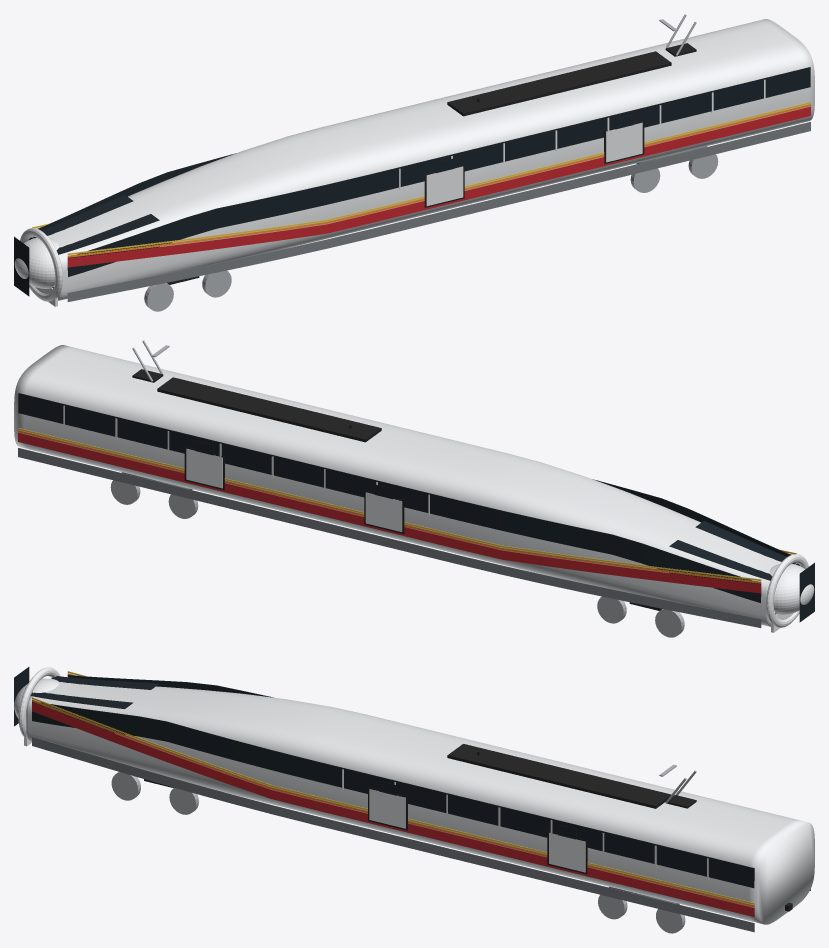
File: cr400af-bs-head-lod-v003.glb
3 renders of one model, top to bottom at view 1: azimuth 30°, elevation 25°; view 2: azimuth 150°, elevation 25°; view 3: azimuth 330°, elevation 25°, orthographic.
Parts seen in each view (by area): view 1: GEO-headcar-lod, GEO-nose_cap, GEO-door_-1_-0.6, GEO-door_-1_5.6, GEO-nose_ring, GEO-nose_windscreen; view 2: GEO-headcar-lod, GEO-nose_cap, GEO-door_1_-0.6, GEO-door_1_5.6, GEO-nose_ring, GEO-nose_windscreen; view 3: GEO-headcar-lod, GEO-door_-1_5.6, GEO-door_-1_-0.6, GEO-nose_ring.
Part boxes in pixels (left/top/right/bottom): GEO-headcar-lod: left=29, top=14, right=814, bottom=311; GEO-nose_cap: left=14, top=238, right=58, bottom=288; GEO-door_-1_-0.6: left=426, top=166, right=463, bottom=205; GEO-door_-1_5.6: left=606, top=122, right=642, bottom=162; GEO-nose_ring: left=20, top=228, right=62, bottom=301; GEO-nose_windscreen: left=14, top=236, right=29, bottom=296; GEO-headcar-lod: left=14, top=340, right=799, bottom=637; GEO-nose_cap: left=770, top=564, right=814, bottom=614; GEO-door_1_-0.6: left=365, top=492, right=402, bottom=531; GEO-door_1_5.6: left=186, top=448, right=222, bottom=488; GEO-nose_ring: left=766, top=554, right=808, bottom=627; GEO-nose_windscreen: left=799, top=562, right=814, bottom=622; GEO-headcar-lod: left=24, top=671, right=814, bottom=933; GEO-door_-1_5.6: left=549, top=833, right=585, bottom=872; GEO-door_-1_-0.6: left=369, top=789, right=405, bottom=828; GEO-nose_ring: left=18, top=667, right=60, bottom=737.
Bounding box in the file's own units: 26.65 × 4.84 × 3.44.
